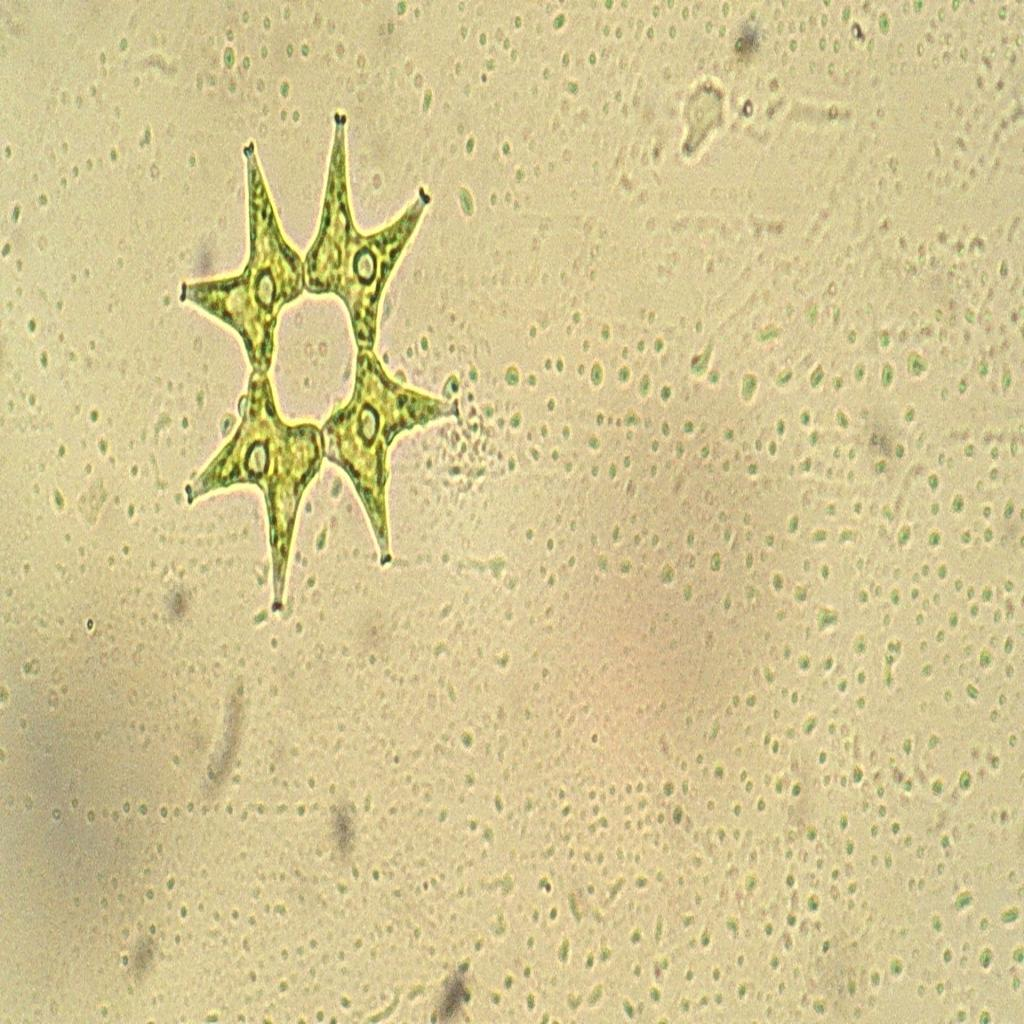Pediastrum_CO: (162, 102, 465, 623)
